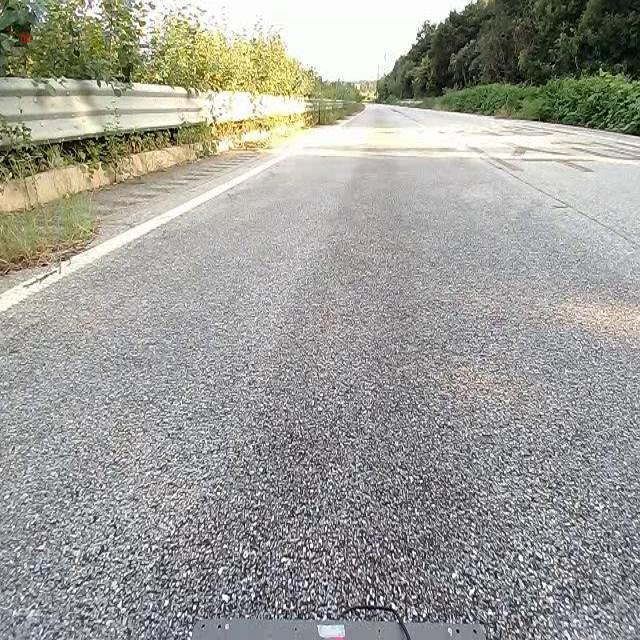Lane: (2, 132, 306, 316), (0, 140, 303, 313)
